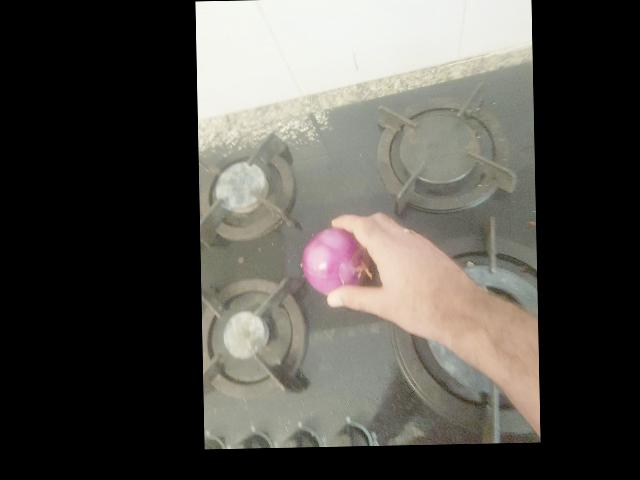onion: (237, 102, 301, 166)
